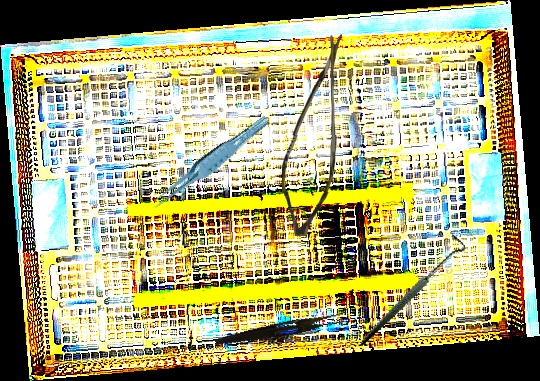Dressing Forceps: (214, 308, 345, 352)
Hook Surgical: (338, 232, 484, 346)
Micro Scissor: (279, 33, 346, 237)
Tissue Forceps: (144, 114, 276, 210)
